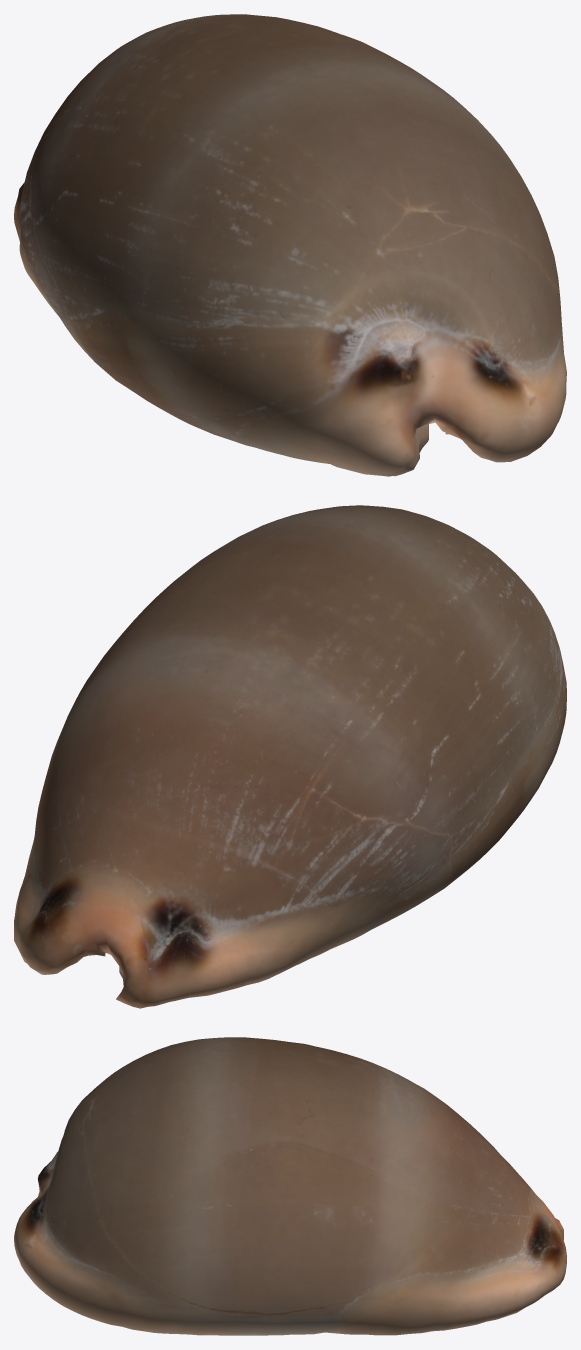
File: shell10.obj
The picture shows the model from 3 angles, top to bottom: view 1: azimuth 30°, elevation 25°; view 2: azimuth 150°, elevation 25°; view 3: azimuth 270°, elevation 25°; orthographic projection. The views are drawn at different scales.
Parts seen in each view (by area): view 1: Obj3d66_1597506_25_147; view 2: Obj3d66_1597506_25_147; view 3: Obj3d66_1597506_25_147.
Boxes of the visible parts, x1,y1,x2,y2 form: Obj3d66_1597506_25_147: (14, 14, 566, 476); Obj3d66_1597506_25_147: (14, 505, 566, 1008); Obj3d66_1597506_25_147: (14, 1037, 566, 1335).
Bounding box in the file's own units: 24.11 × 20.08 × 41.92.
1 material, 1 textured.
